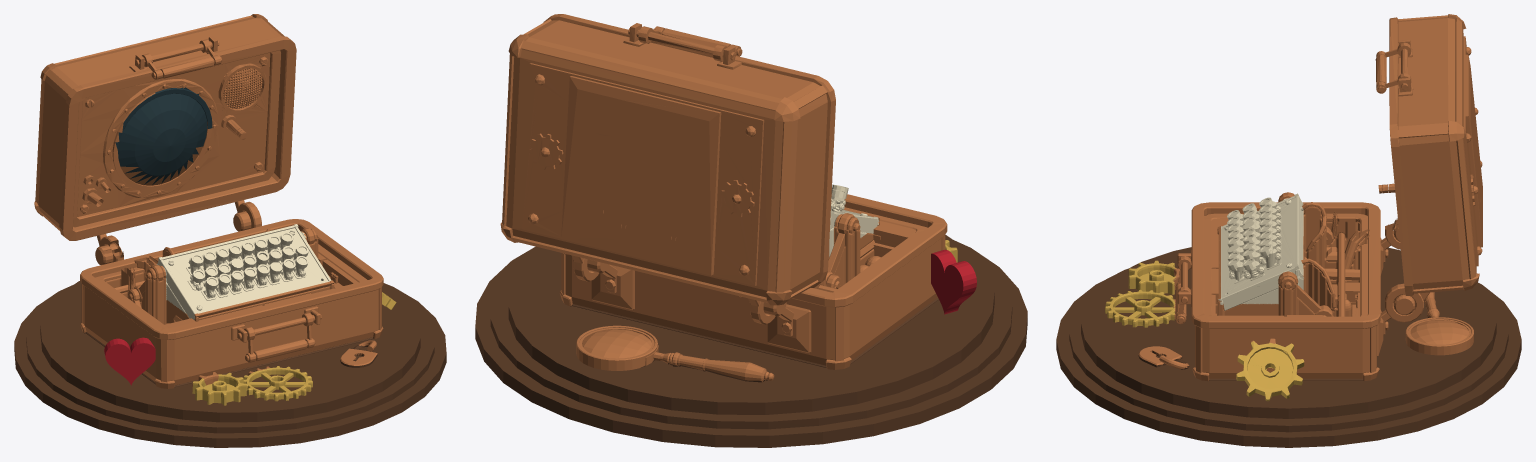
Rendered from portatile.glb.
3 renders of one model, left to right at view 1: azimuth 30°, elevation 25°; view 2: azimuth 150°, elevation 25°; view 3: azimuth 270°, elevation 25°, orthographic. The views are drawn at different scales.
Parts seen in each view (by area): view 1: base, lid, keys, screen, gear_a, heart, gear_b; view 2: base, lid, heart, keys; view 3: base, lid, keys, gear_c, gear_a, gear_b.
Part boxes in pixels (x1,y1,x2,y2): base: (14,200,446,447); lid: (34,14,296,240); keys: (157,224,331,319); screen: (115,87,212,184); gear_a: (237,366,312,401); heart: (104,337,155,385); gear_b: (192,372,245,405); base: (475,194,1027,447); lid: (500,14,835,305); heart: (931,249,976,314); keys: (829,184,879,256); base: (1056,192,1521,447); lid: (1375,14,1482,295); keys: (1218,193,1303,310); gear_c: (1236,341,1304,401); gear_a: (1105,280,1175,327); gear_b: (1128,260,1176,294).
Bounding box in the file's own units: 0.5 × 0.3439 × 0.5.
